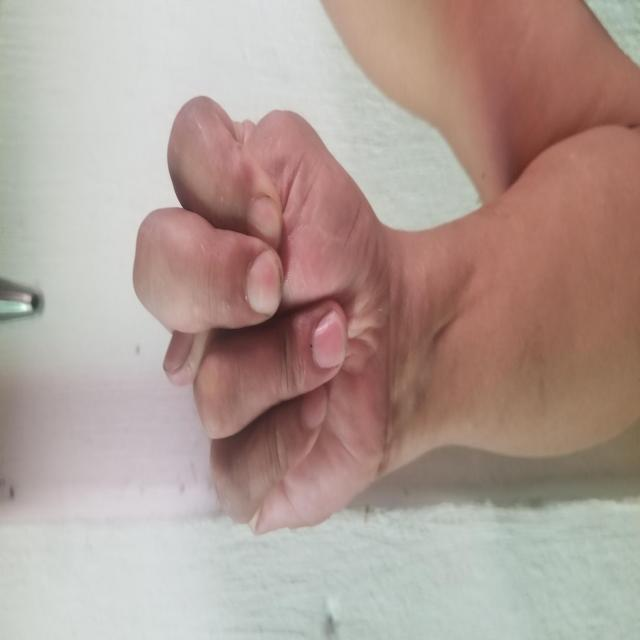N: (104, 132, 544, 386)
